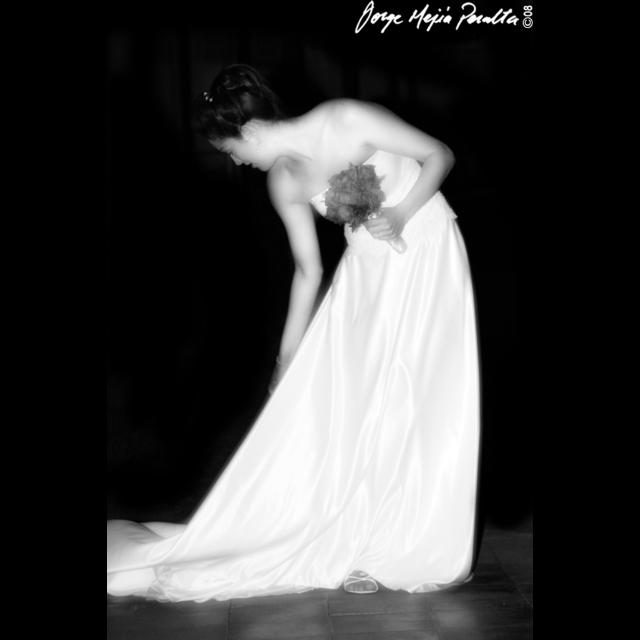Flower: (324, 155, 388, 217)
